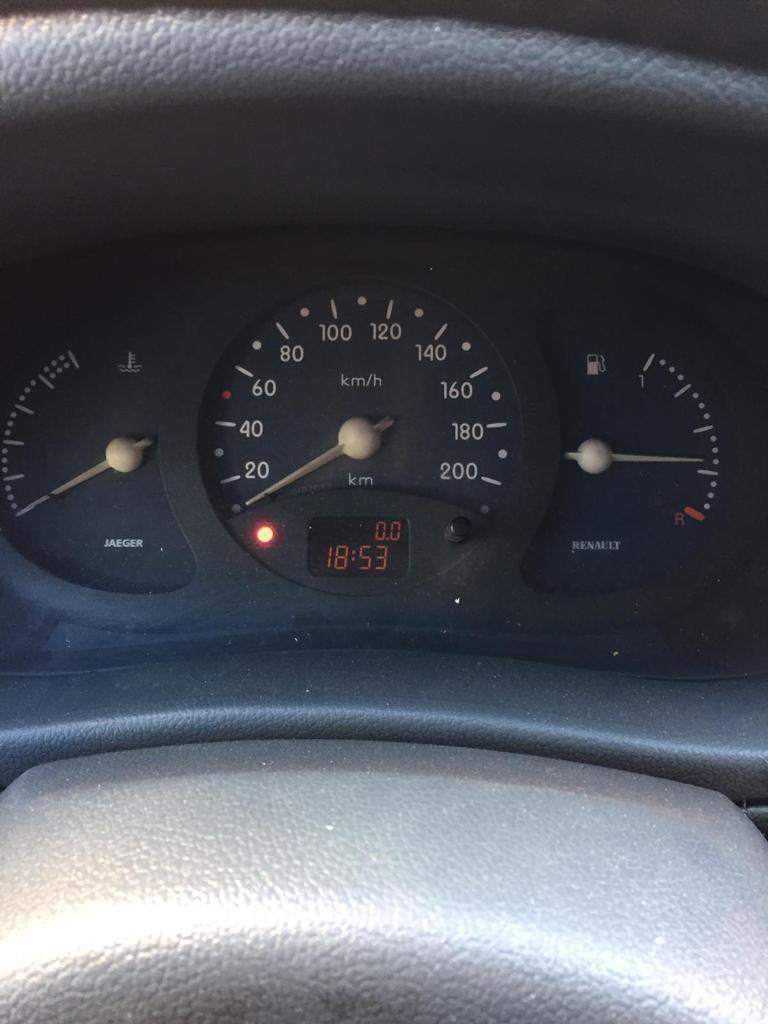,: (385, 536, 389, 541)
0: (374, 521, 387, 541), (389, 521, 401, 540)
1: (326, 545, 333, 568)
3: (374, 544, 388, 570)
5: (359, 545, 371, 570)
8: (334, 544, 348, 569)
X: (351, 550, 356, 561)
odometer: (306, 514, 411, 578)
